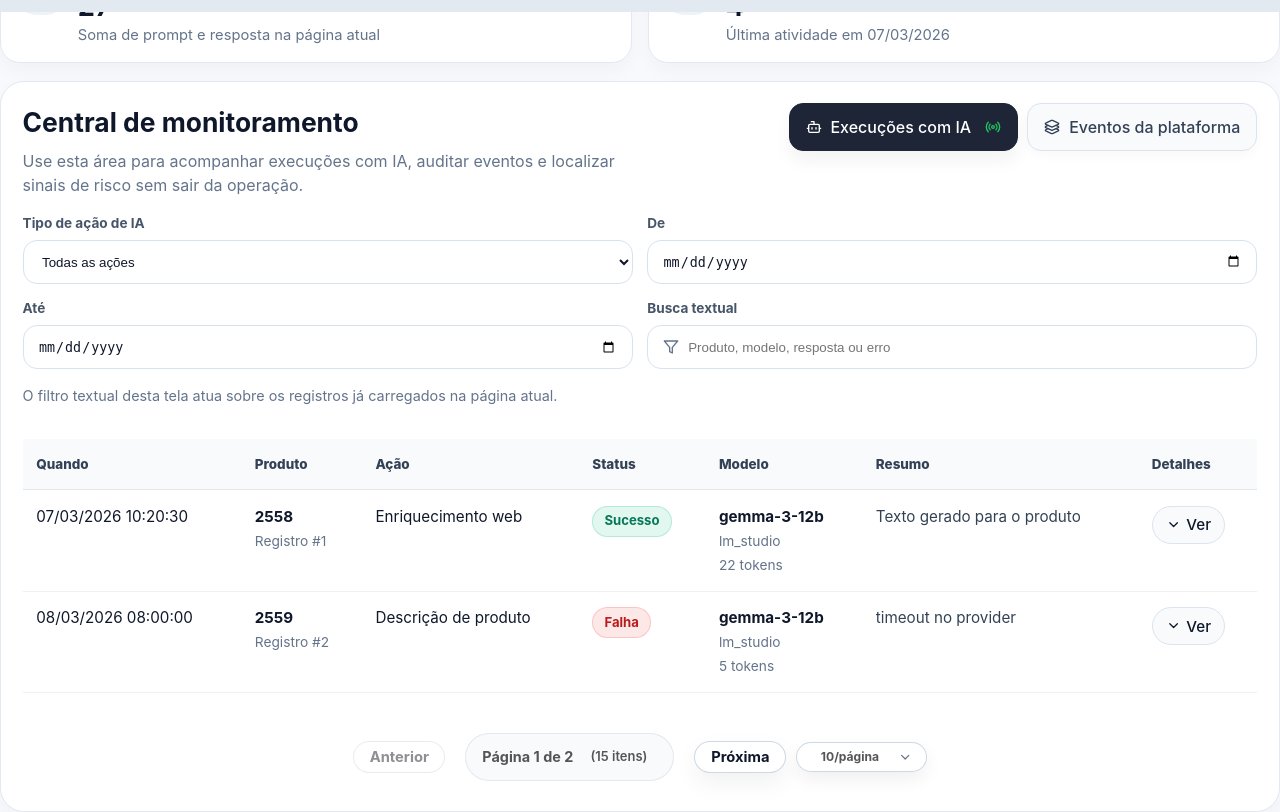
Test: HistoricoPage › expande detalhes do uso de IA e mostra prompt, resposta e erro
(page scrolled)
Check: the text "Texto gerado para o produto" is shown, box [876, 507, 1081, 526]
What coordinates should you click on to do the following:
click the button "Ver" in the row of "07/03/2026 10:20:30"
I would click on:
 (1188, 525)
Its box is [1152, 506, 1225, 544].
(page scrolled)
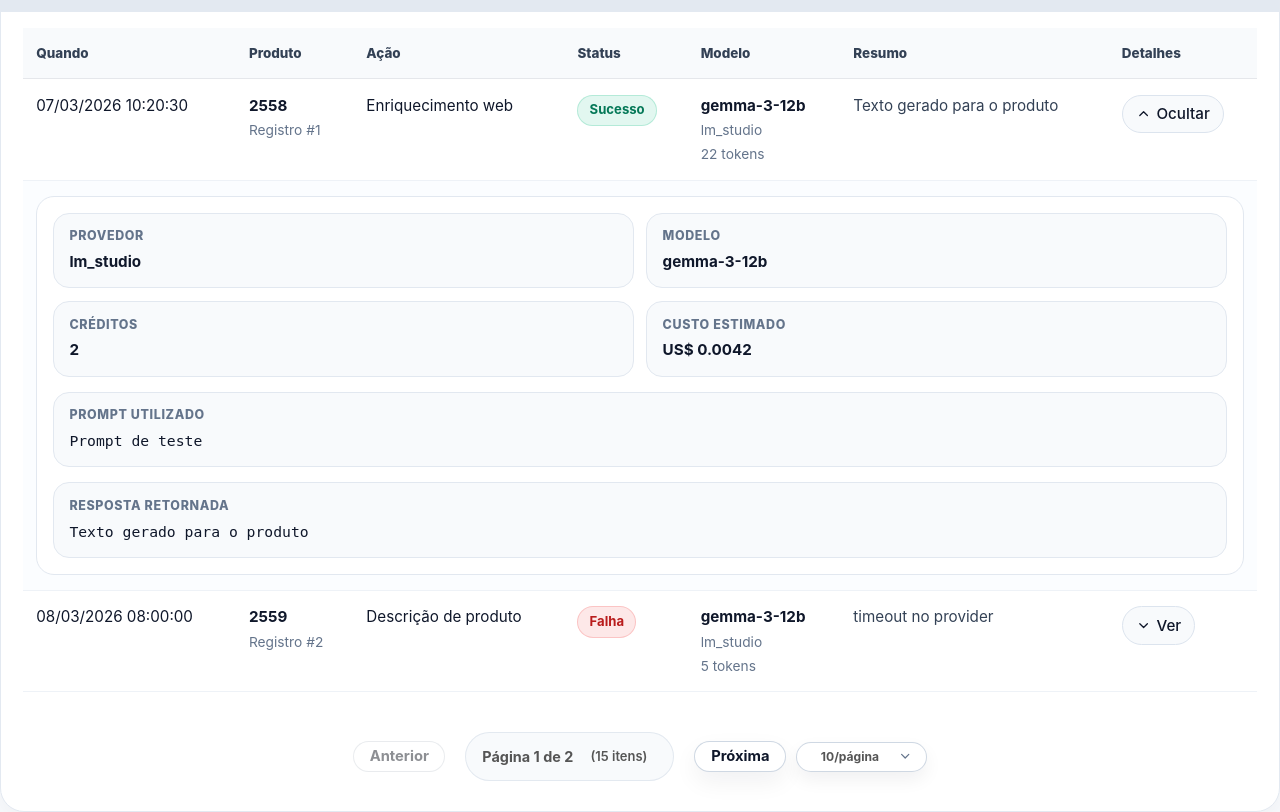
Check: the text "Prompt utilizado" is shown, box [69, 407, 205, 422]
Check: the text "Prompt de teste" is shown, box [69, 432, 202, 449]
Check: the text "Resposta retornada" is shown, box [69, 498, 229, 513]
What coordinates should you click on to do the following:
click the button "Ver"
I would click on:
 (1158, 626)
Its box is [1122, 606, 1195, 645].
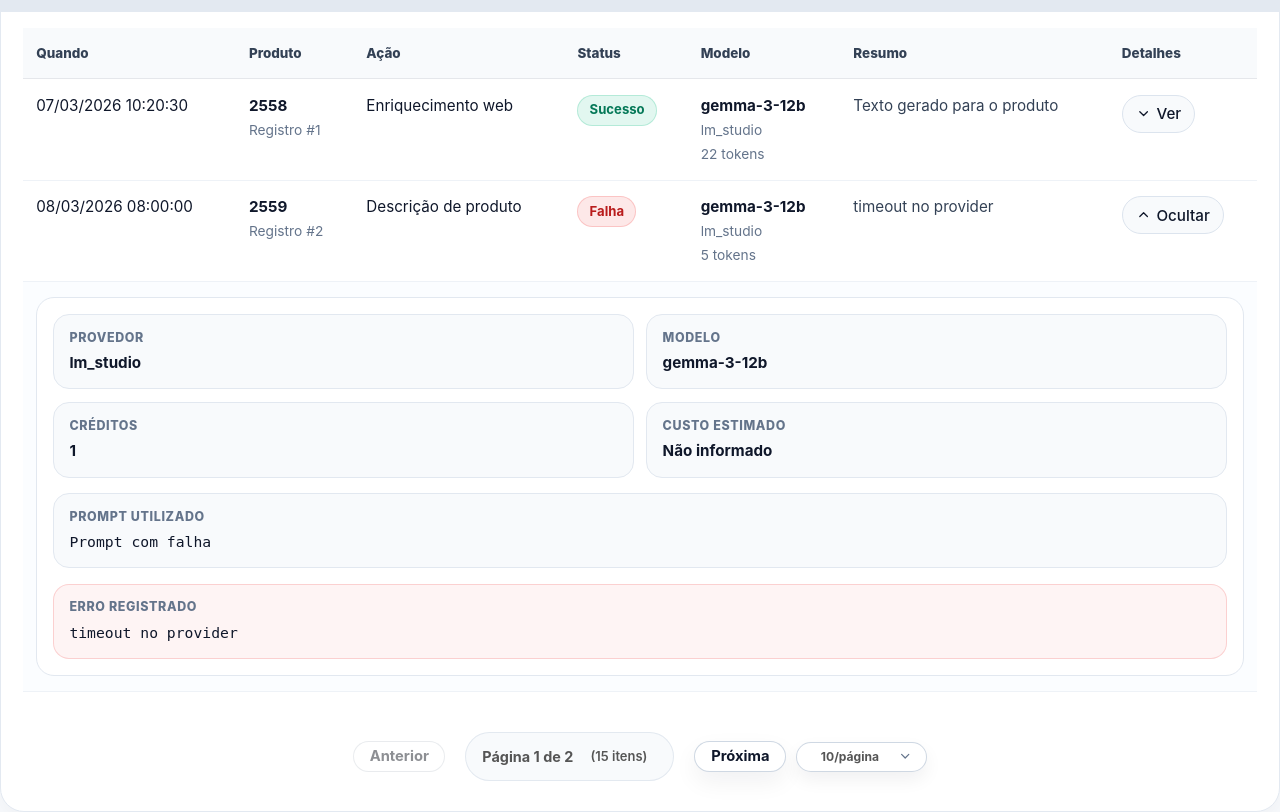
Check: the text "timeout no provider" in the row of "08/03/2026 08:00:00" is shown, box [853, 197, 994, 216]
Check: the text "Erro registrado" is shown, box [69, 599, 197, 614]
